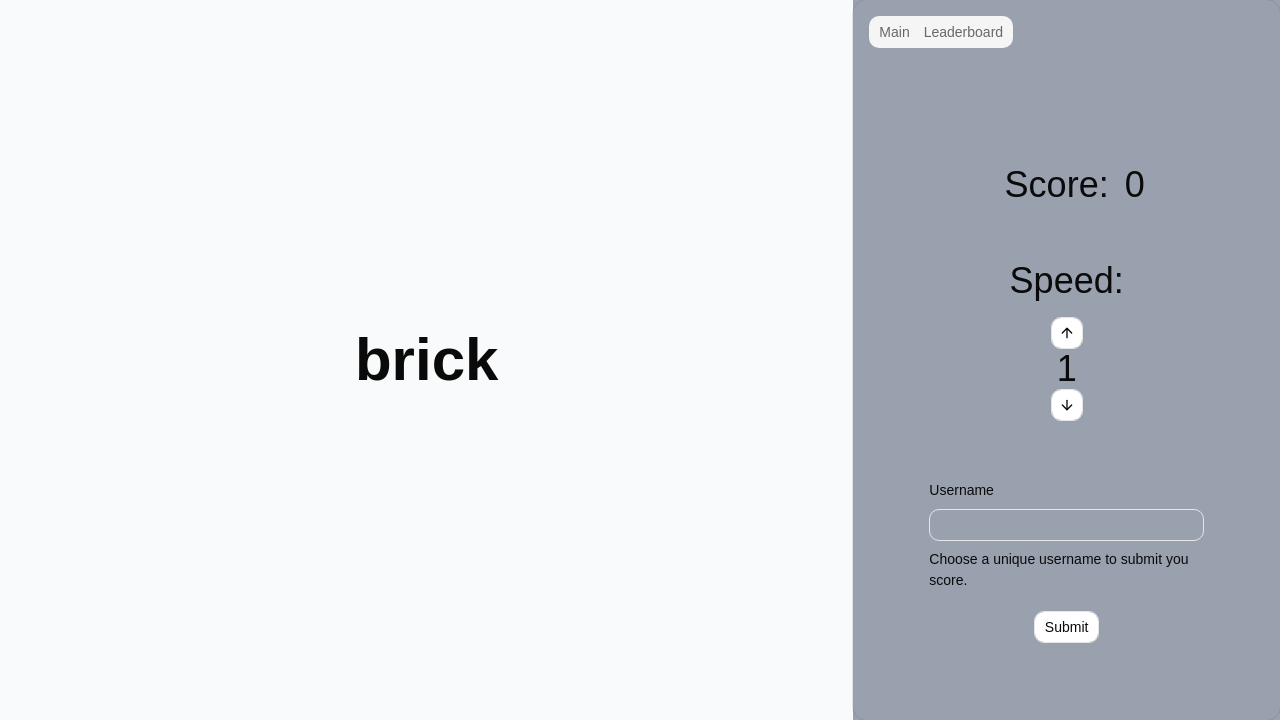
Scenario: Difficulty controls › increases difficulty when up arrow is clicked
The width and height of the screenshot is (1280, 720).
What coordinates should you click on to do the following:
click the button named "increase difficulty"
I would click on:
 (1067, 333)
Its box is [1051,317,1083,349].
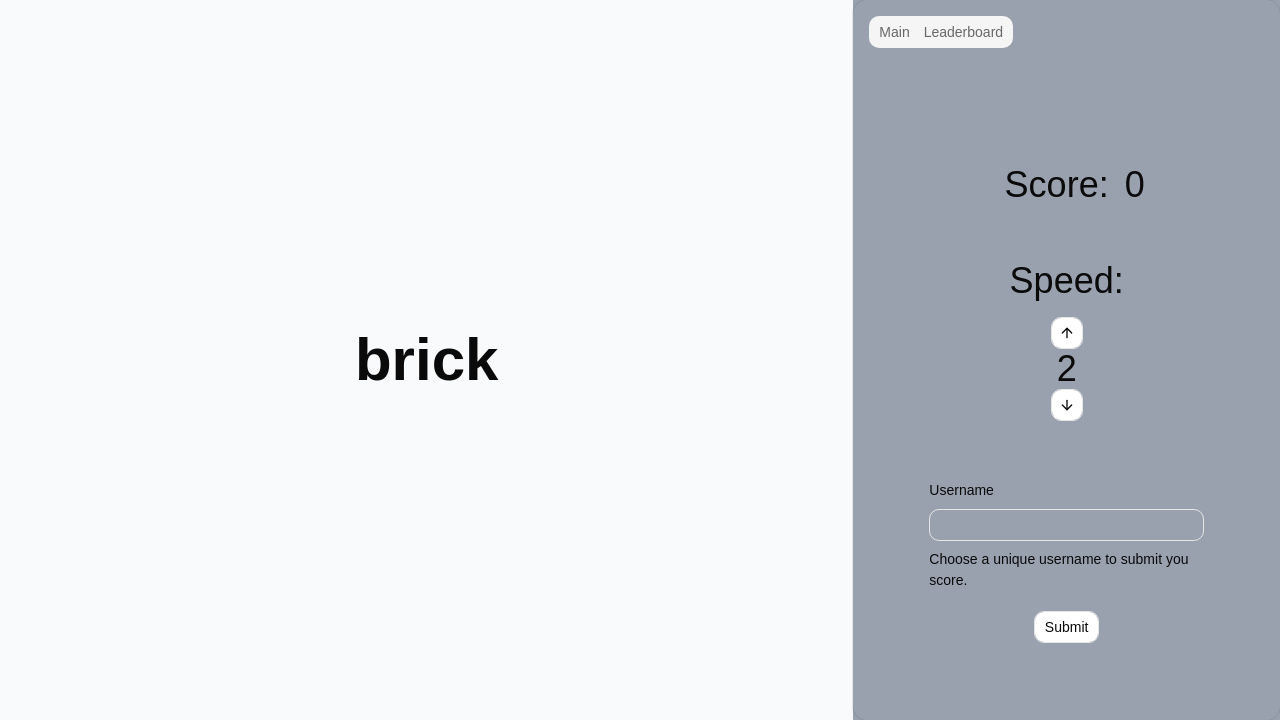
Expected: the text "2" is shown, [1057,349,1077,389]
